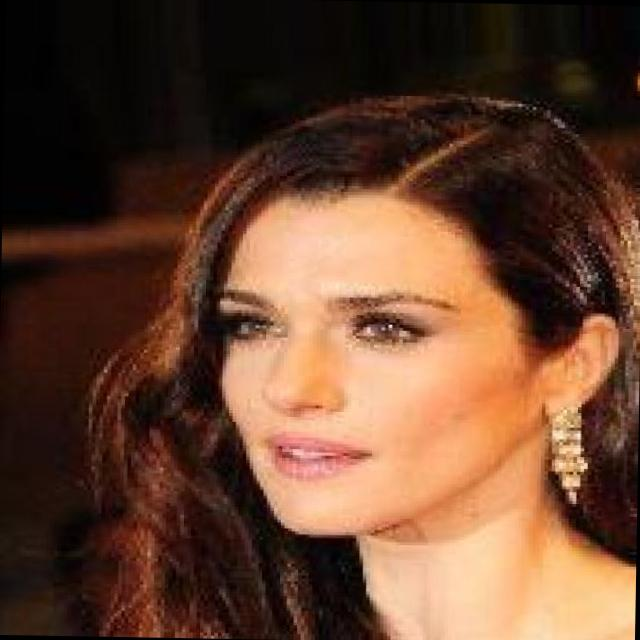bareface: (215, 136, 615, 518)
